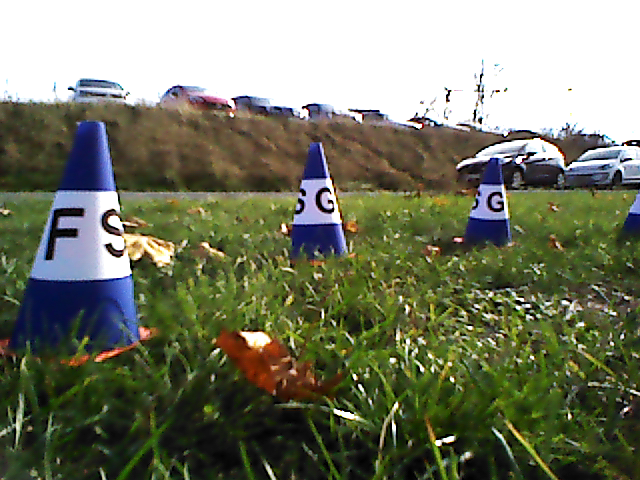bluecone: (8, 121, 141, 350), (289, 142, 350, 258), (467, 159, 512, 244)
